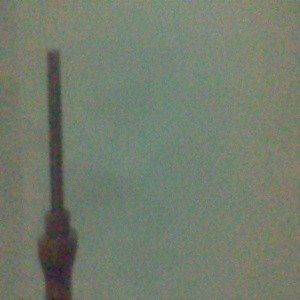obeng: (36, 48, 79, 300)
